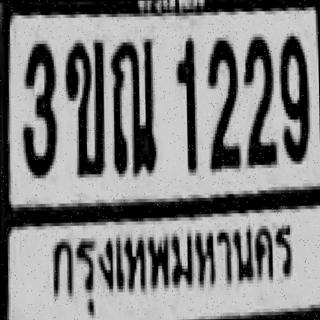A02: (63, 38, 105, 173)
A19: (108, 35, 154, 174)
N01: (174, 36, 196, 171)
N02: (205, 36, 239, 168), (242, 35, 276, 163)
N03: (20, 39, 56, 174)
N09: (278, 33, 308, 161)
P04: (42, 217, 297, 318)
